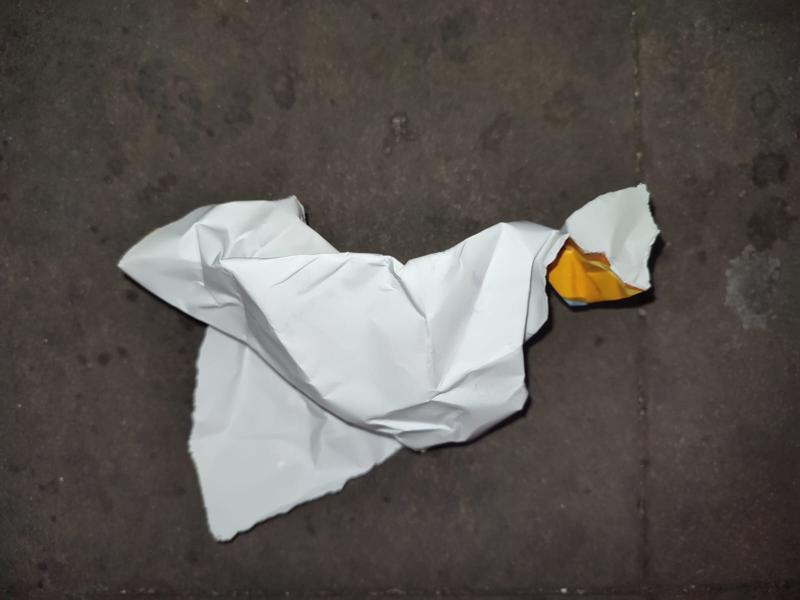papel: (115, 187, 663, 544)
